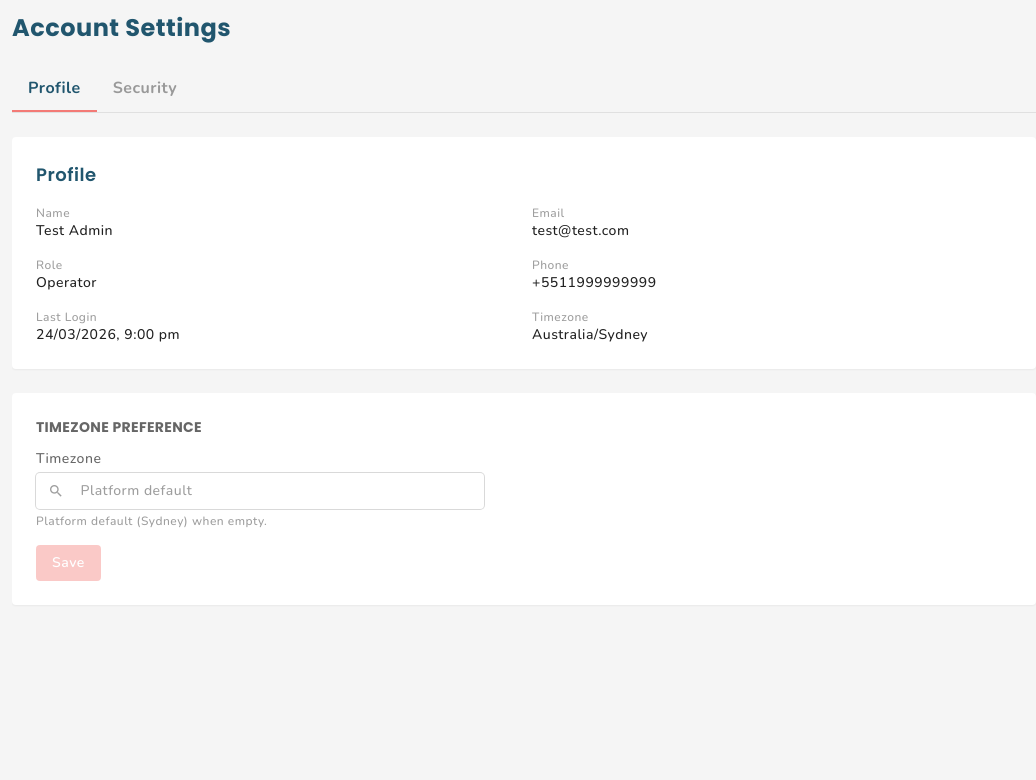
Scenario: AccountSettingsPage — personal timezone flow › still shows success and invalidates queries when refreshUser rejects
Click the dropdown named "Timezone" at (276, 491), box [68, 473, 484, 509]
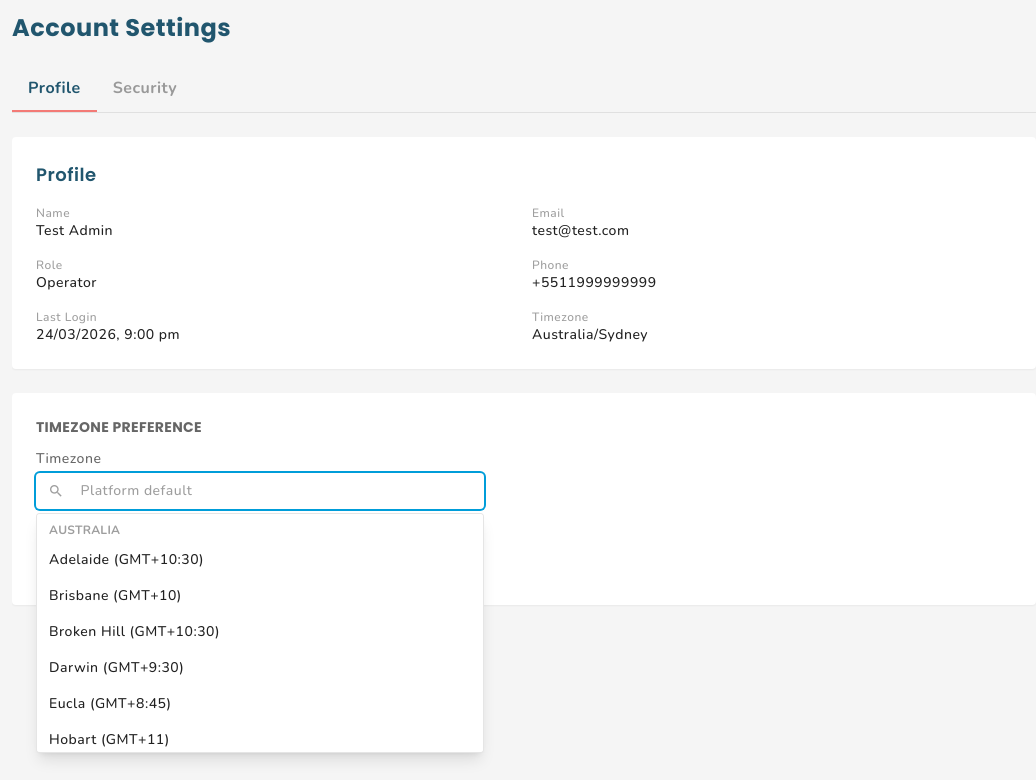
Type keys "perth"
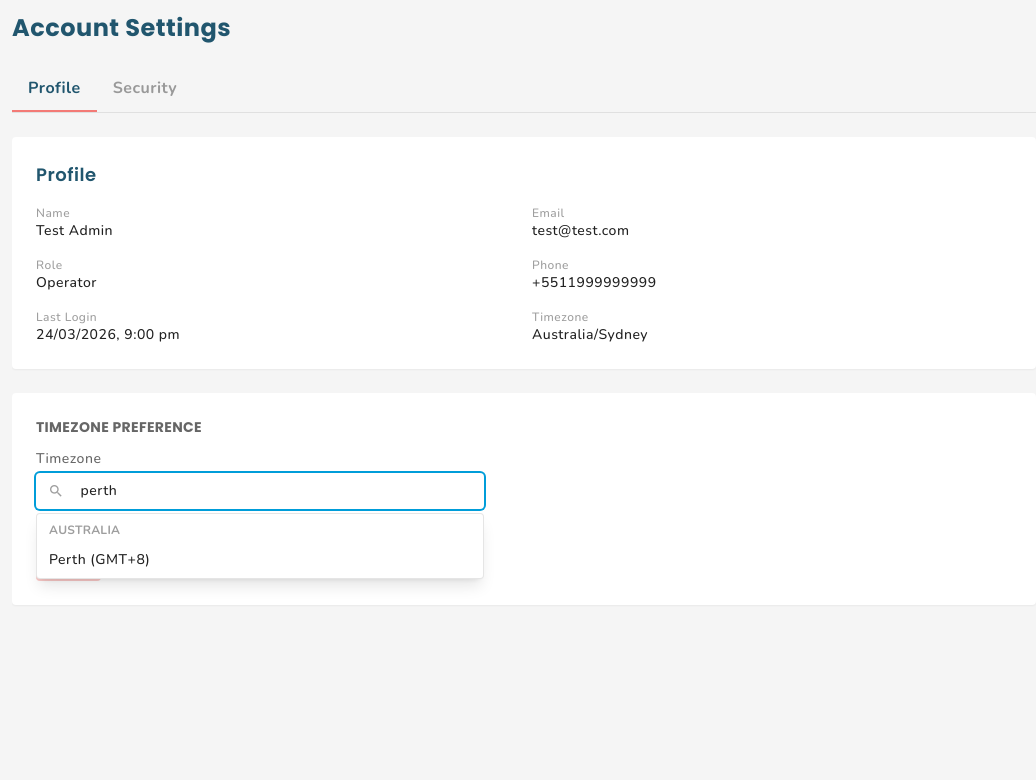
Click the option "Perth (GMT+8)" at (100, 560), box [49, 550, 150, 569]
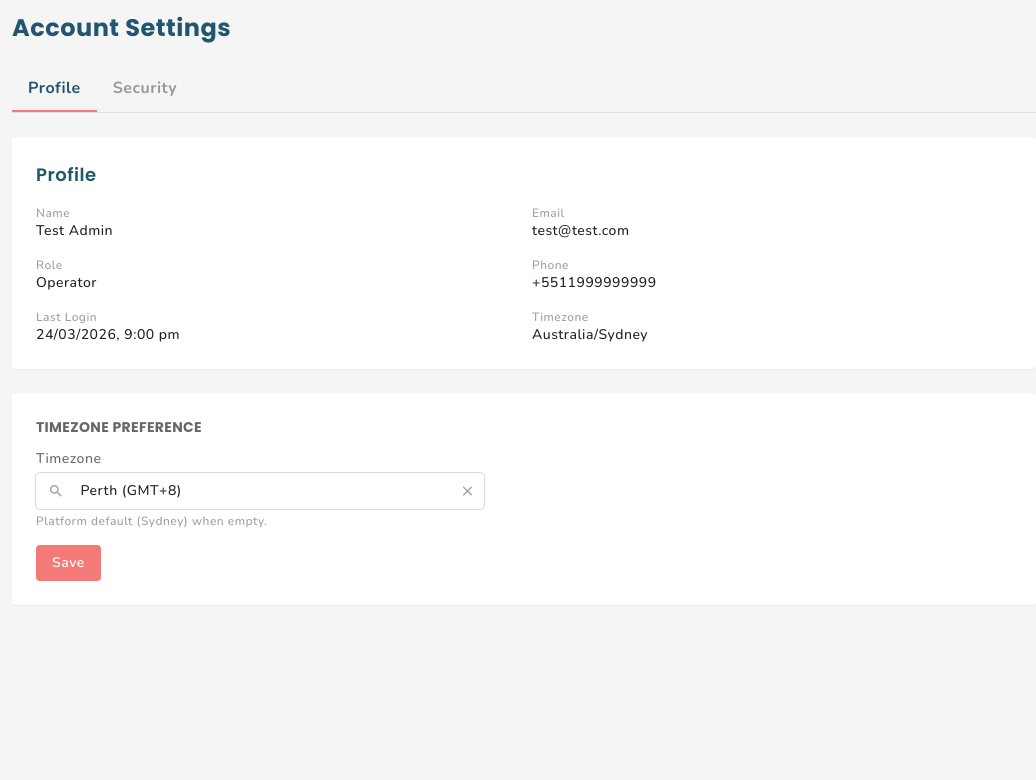
Click the button "Save" at (68, 563), box [36, 545, 101, 581]
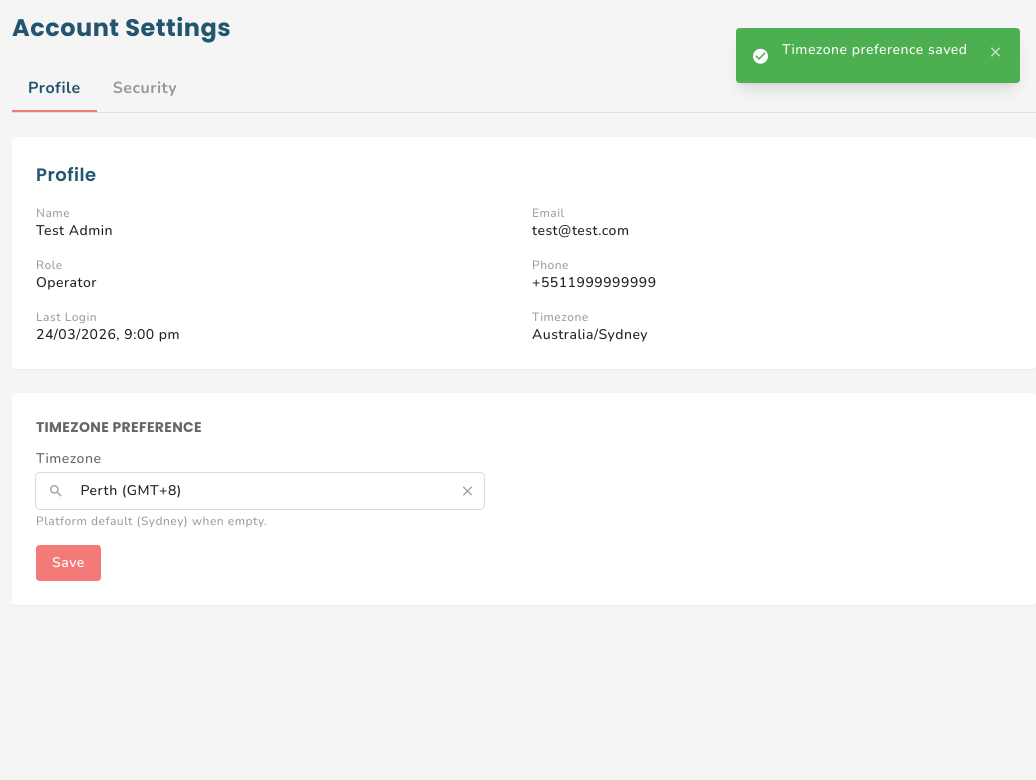
expect the message reads "Timezone preference saved": met, box [782, 40, 968, 59]
